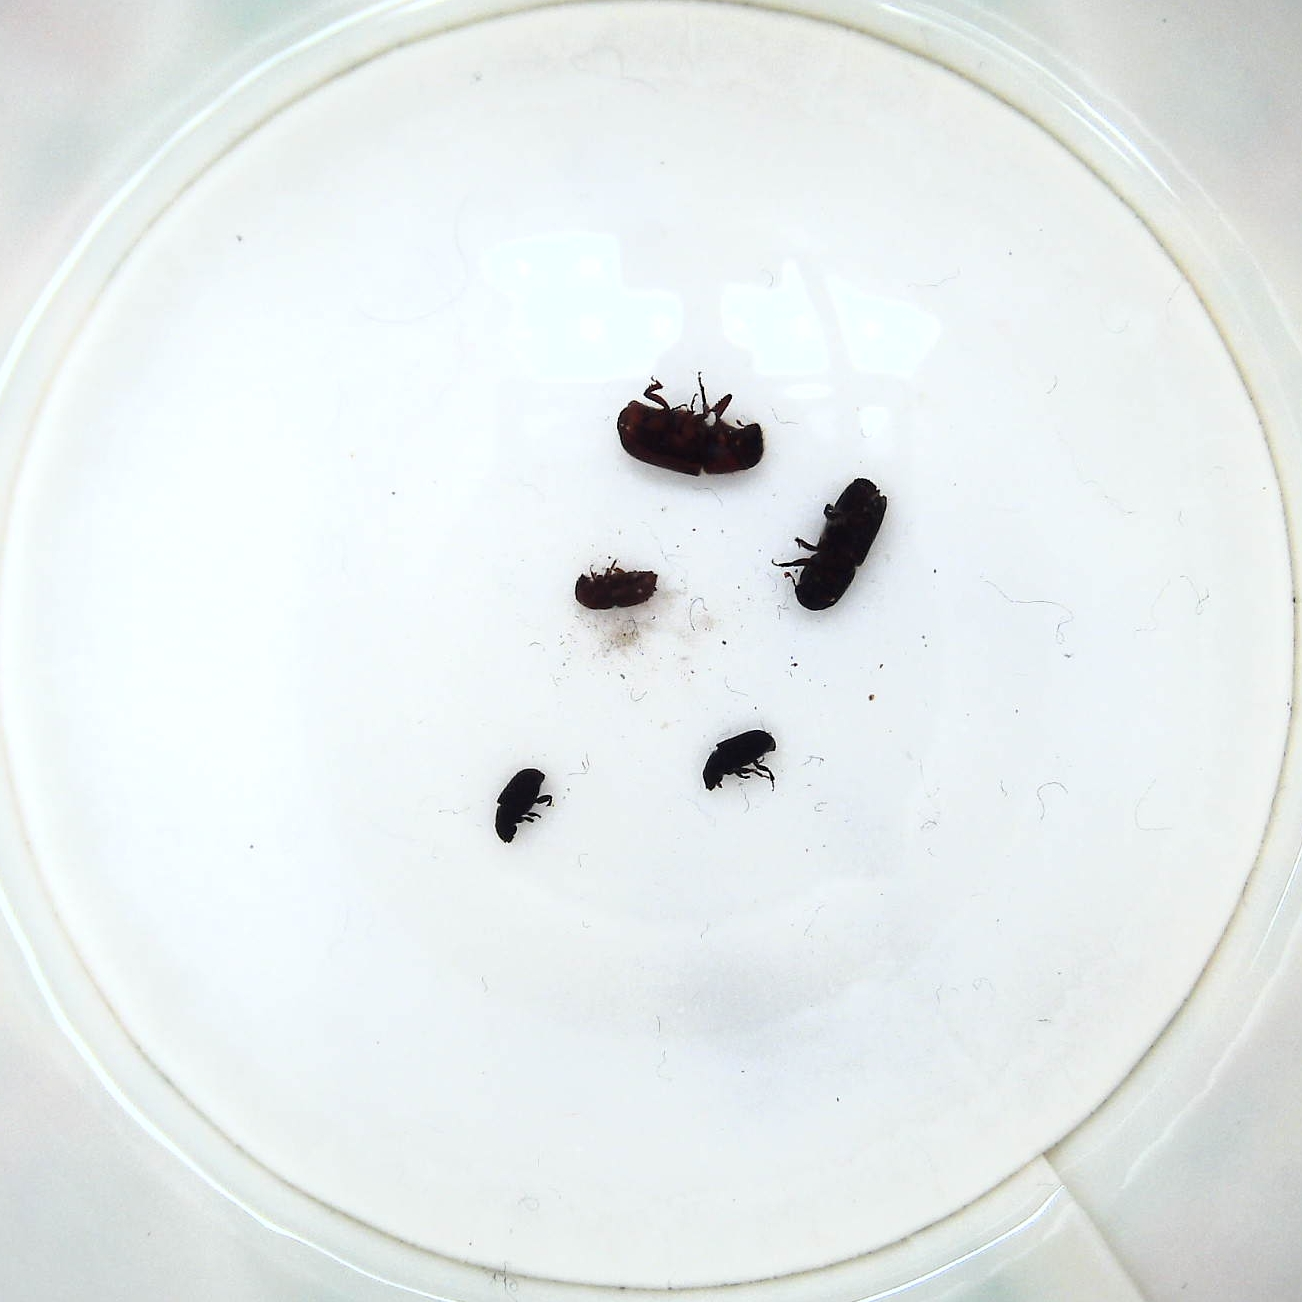Boerner: (771, 475, 889, 616)
Leconte: (613, 373, 771, 485)
armandi: (491, 761, 560, 844)
coleoptera: (703, 724, 789, 802)
linnaeus: (571, 556, 661, 616)
